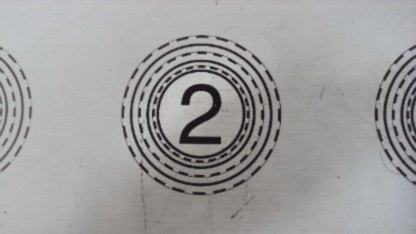2r: (118, 35, 281, 195)
